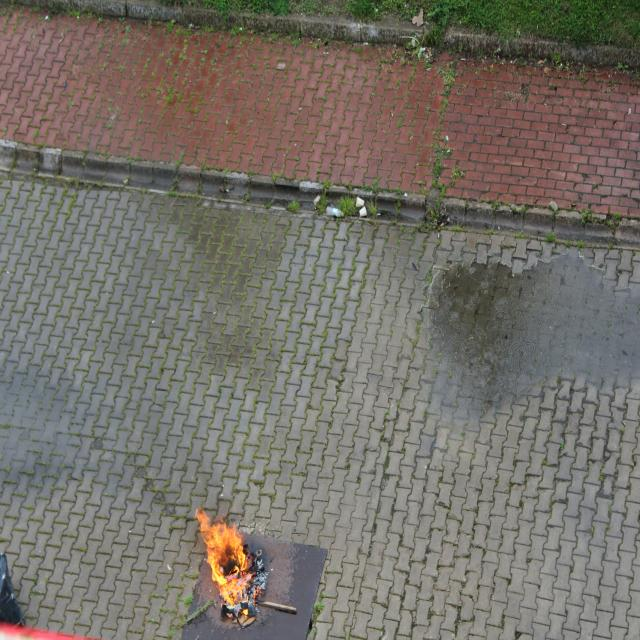fire: (195, 503, 252, 608)
